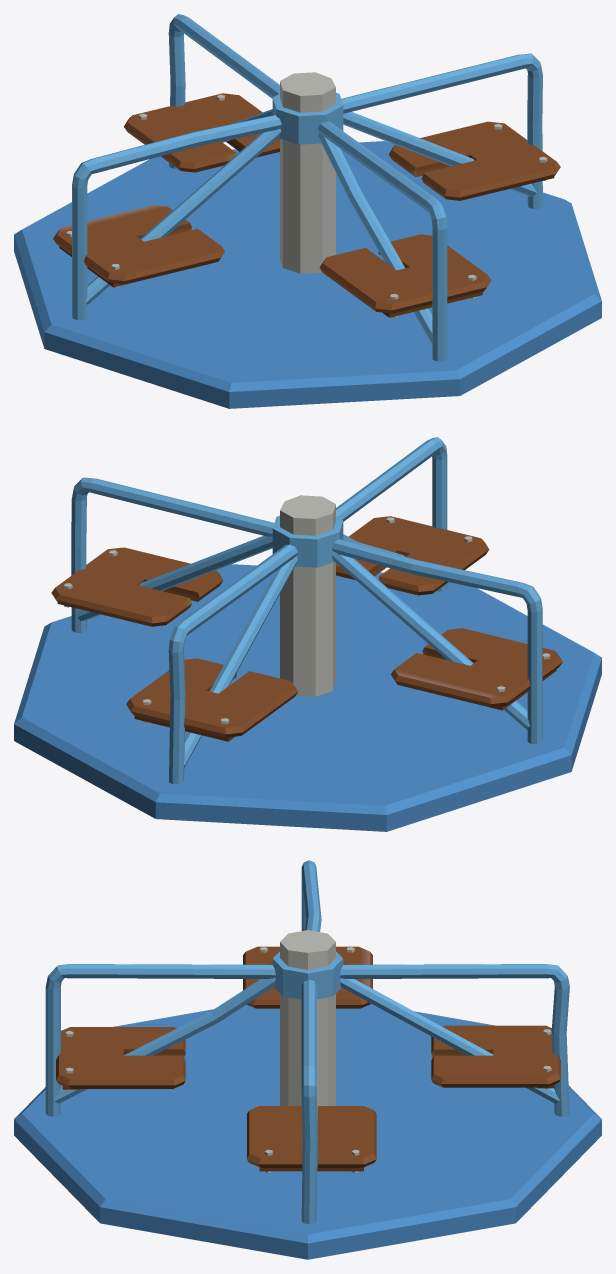
Rendered from Attraction.fbx.
The picture shows the model from 3 angles, top to bottom: view 1: azimuth 30°, elevation 25°; view 2: azimuth 150°, elevation 25°; view 3: azimuth 270°, elevation 25°; orthographic projection. The views are drawn at different scales.
Visible parts, largest first — view 1: Cylinder.1345; view 2: Cylinder.1345; view 3: Cylinder.1345.
Boxes of the visible parts, box(x1,y1,x2,y2) form: Cylinder.1345: box(14, 14, 601, 408); Cylinder.1345: box(14, 437, 601, 831); Cylinder.1345: box(14, 860, 601, 1259).
Size of the model in its own units: 441 by 190 by 441.
1 material, 1 textured.
